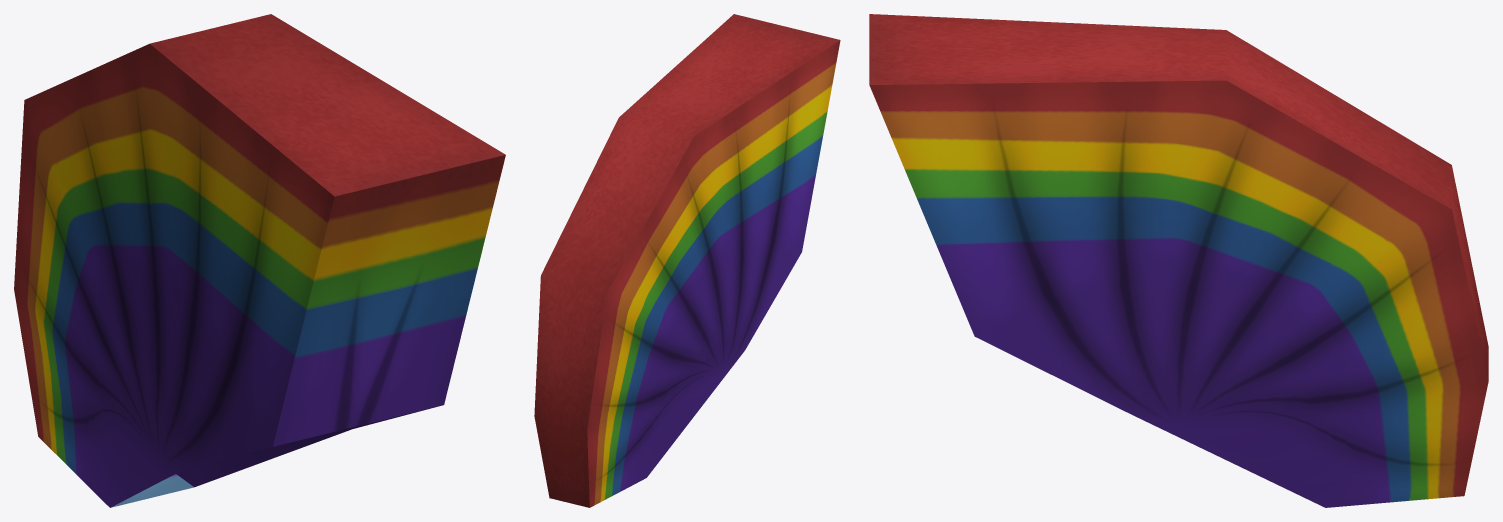
Rendered from Hair_Iroquois.FBX.
3 views of the same model, side by side, from view 1: azimuth 30°, elevation 25°; view 2: azimuth 150°, elevation 25°; view 3: azimuth 270°, elevation 25° (orthographic). The views are drawn at different scales.
Parts seen in each view (by area): view 1: Hair_Iroquois; view 2: Hair_Iroquois; view 3: Hair_Iroquois.
Boxes of the visible parts, bbox=[...] form: Hair_Iroquois: bbox=[14, 14, 505, 507]; Hair_Iroquois: bbox=[534, 14, 840, 507]; Hair_Iroquois: bbox=[869, 14, 1488, 507].
Size of the model in its own units: 83.56 by 242 by 307.
Materials: 1 (1 with a texture image).
